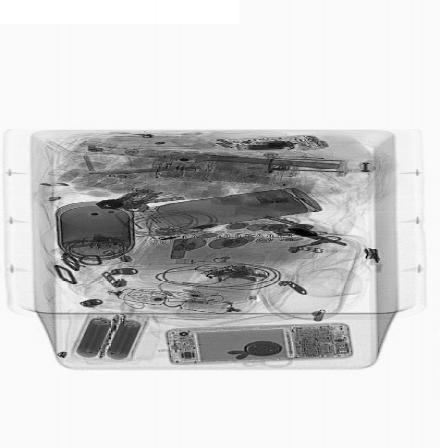Knife: (85, 164, 205, 174)
